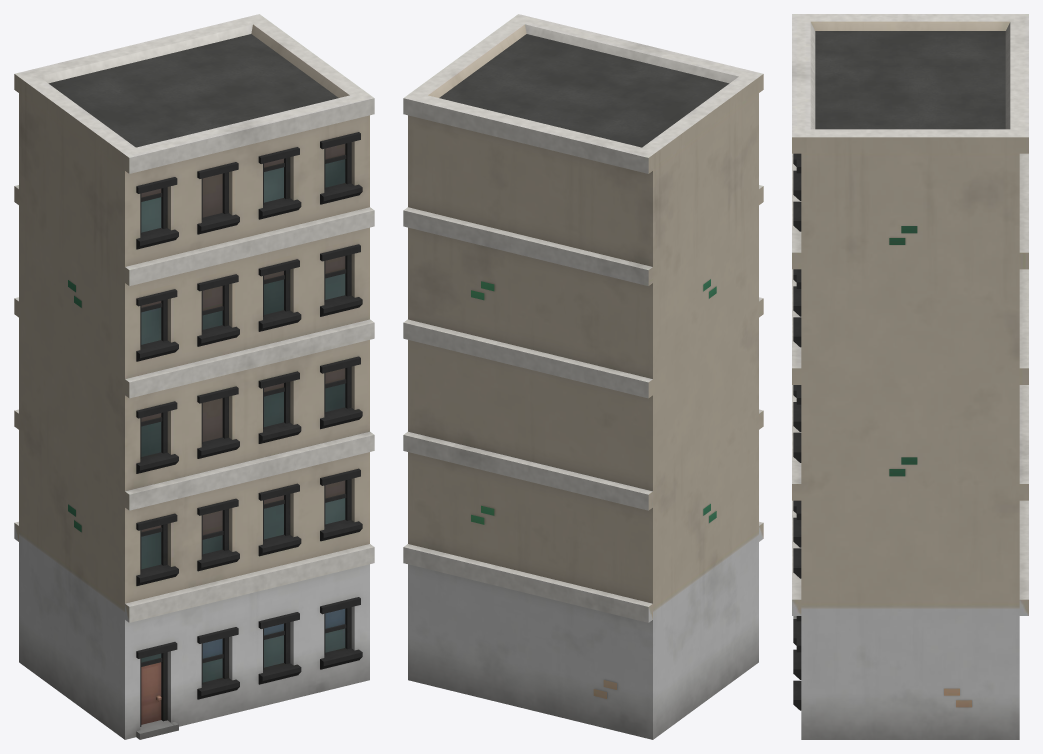
File: building_D_6f.glb
The picture shows the model from 3 angles, left to right: view 1: azimuth 30°, elevation 25°; view 2: azimuth 150°, elevation 25°; view 3: azimuth 270°, elevation 25°; orthographic projection. The views are drawn at different scales.
Visible parts, largest first — view 1: ground; view 2: ground; view 3: ground.
Boxes of the visible parts, bbox=[...] form: ground: bbox=[14, 14, 374, 739]; ground: bbox=[403, 14, 763, 739]; ground: bbox=[792, 14, 1028, 739].
Bounding box in the file's own units: 1.61 × 3.65 × 1.3.
2 materials, 2 textured.
